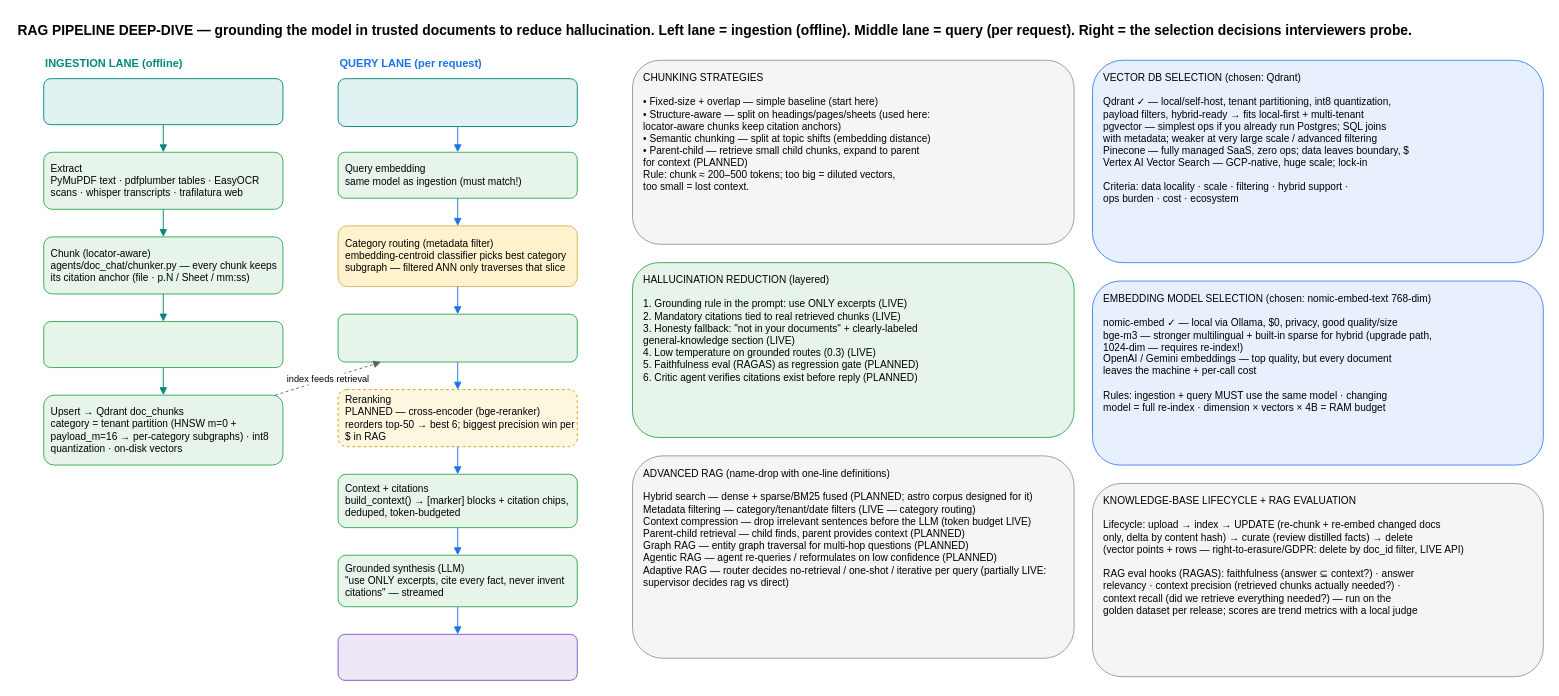
This 1559x696 diagram has some shape labels left out. Here are the shapes that lost their labels. From the top down, the centre of each, then its label:
(x=163, y=101): Document upload PDF · DOCX · XLSX · audio · video · URL
(x=457, y=102): Question "What does my contract say about the notice period?"
(x=163, y=344): Embed nomic-embed-text 768-dim via Ollama, batched
(x=457, y=337): Vector search → Top-k (6) cosine ANN; assistant-pro searches ALL collections
(x=457, y=656): Answer with citations "60-day notice period [Contract.pdf · p.4]"
